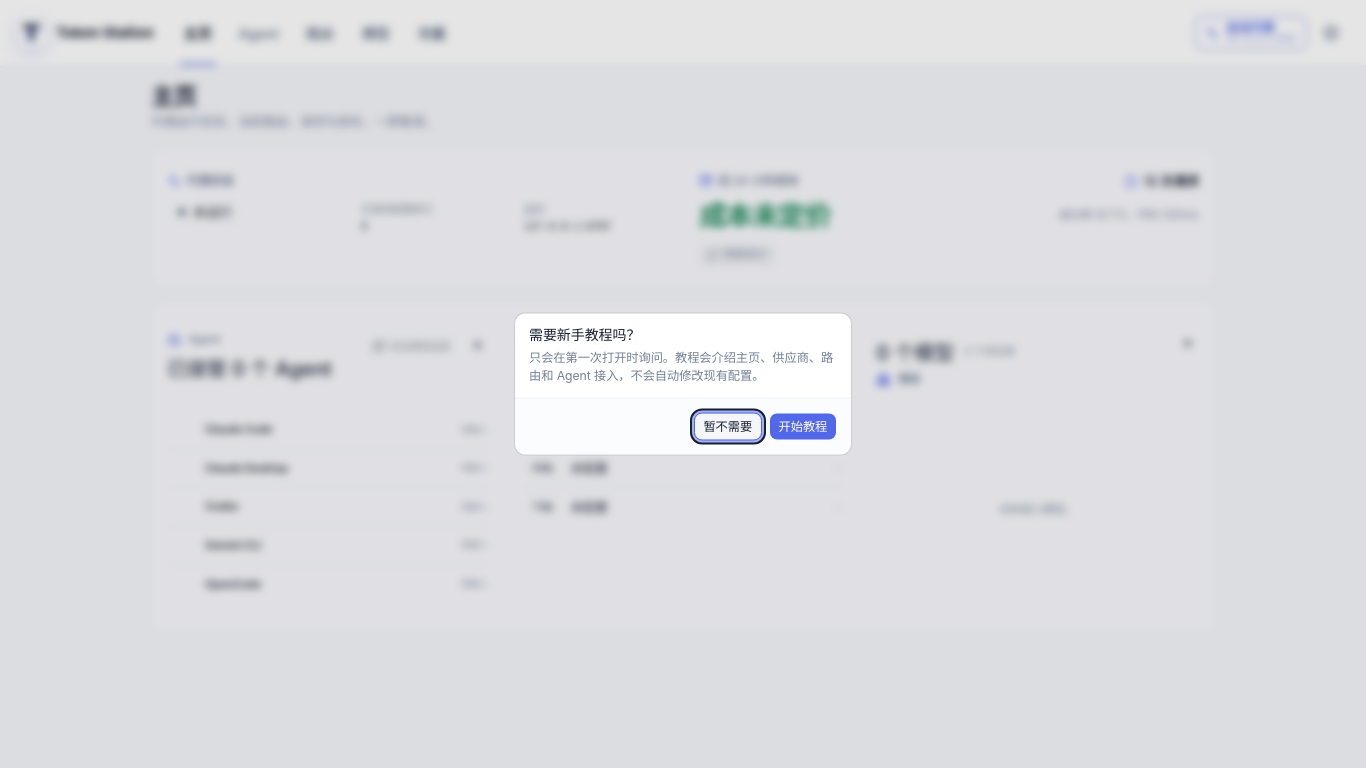
Test: 新用户选择开始教程后高亮主页菜单
Click the button "开始教程" at point(803, 426), box [769, 412, 837, 440]
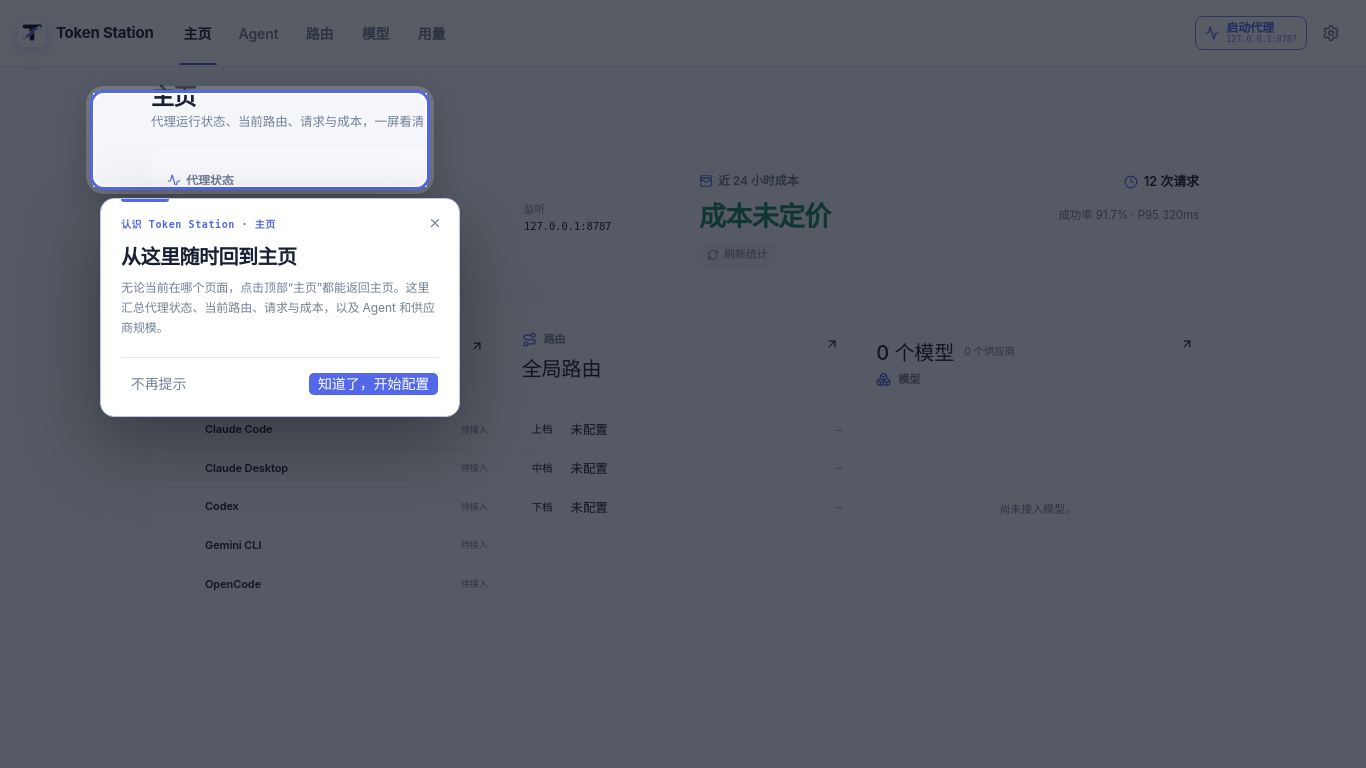
Check: the dialog "从这里随时回到主页" is shown, box [100, 198, 460, 417]
